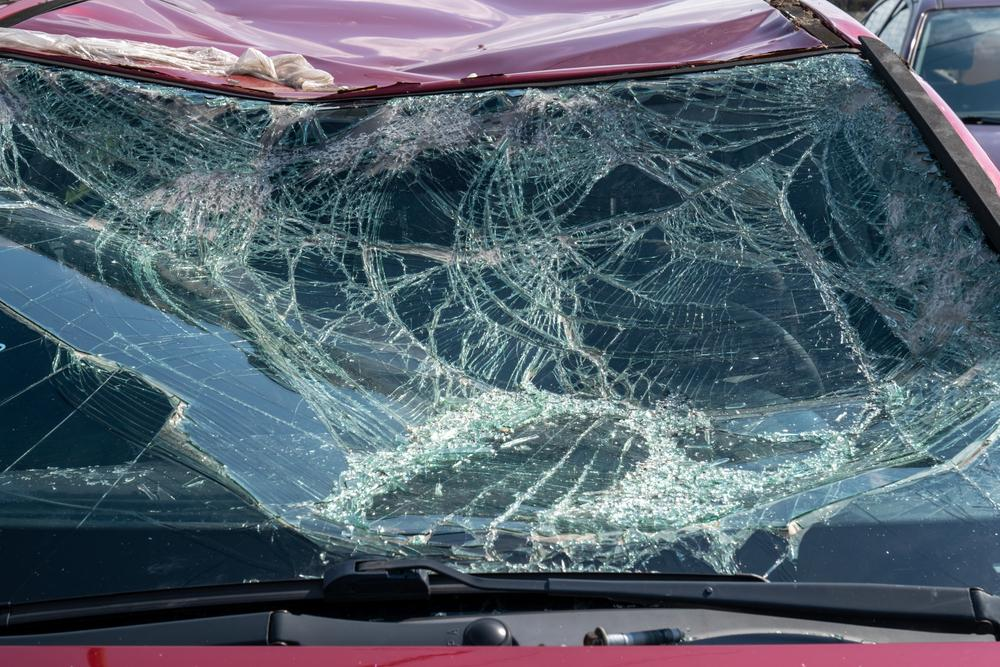dent: (51, 1, 800, 83)
glass shatter: (0, 53, 1000, 607)
